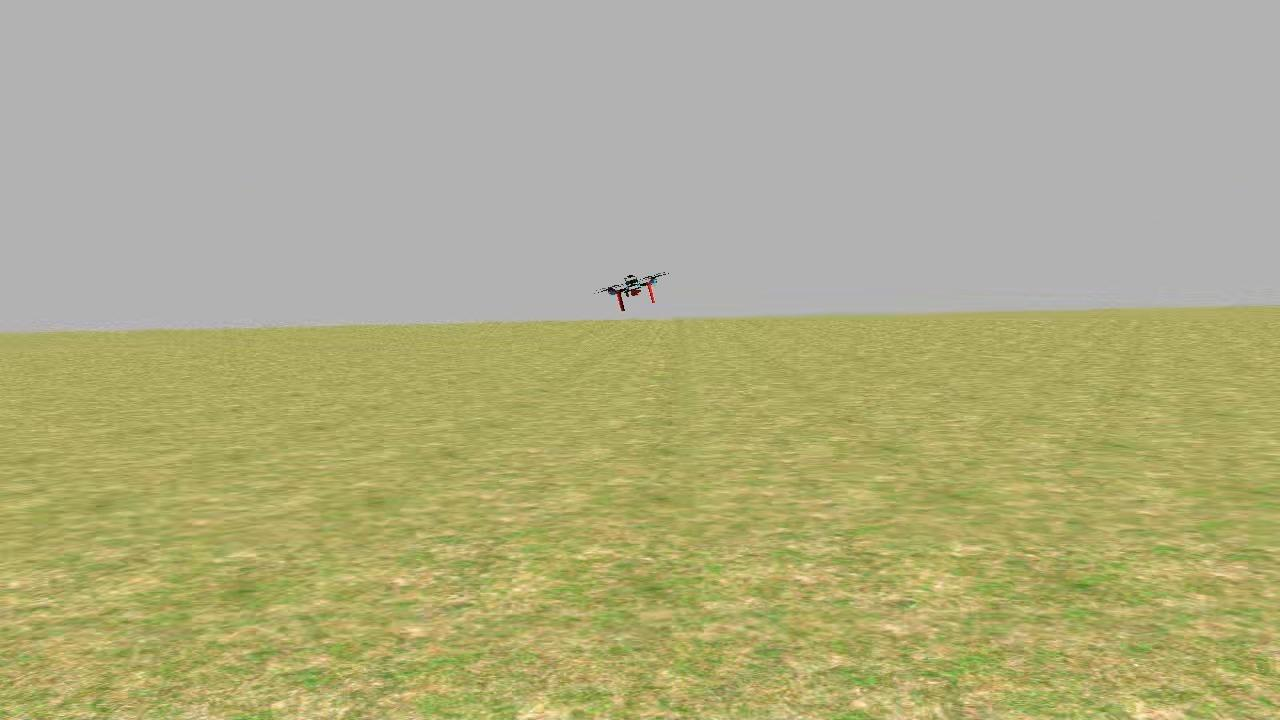UAV: (591, 262, 677, 315)
